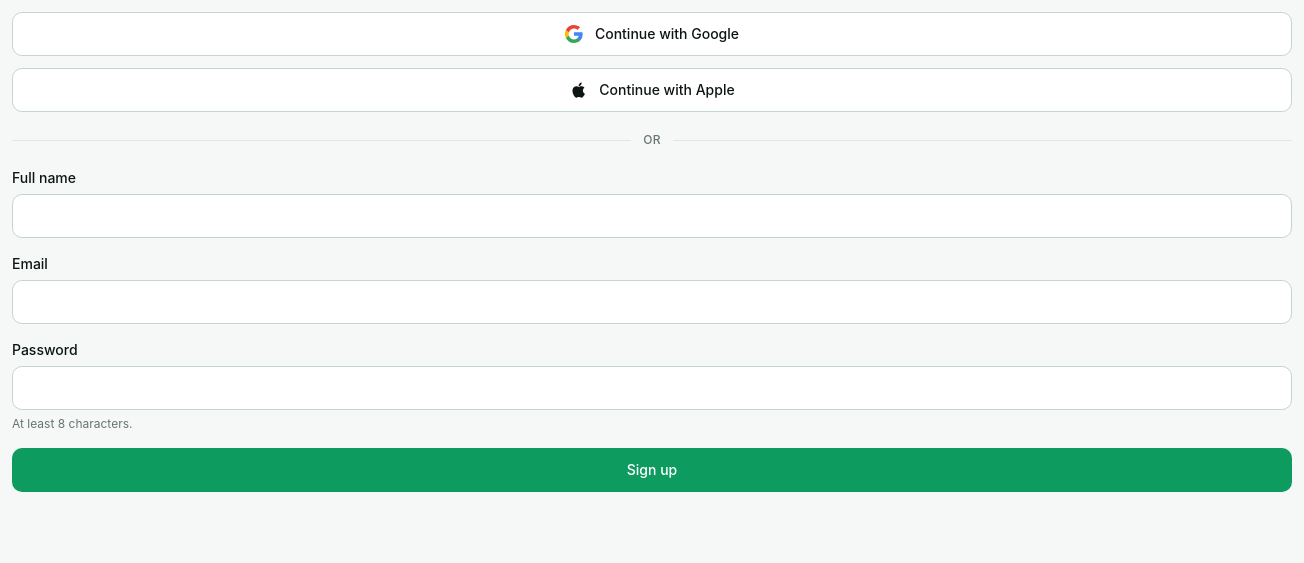
Test: SignupForm — already-registered handling › keeps an unrecognised provider message rather than inventing one
Step 1. Type "Karim Benali" into the field labelled "Full name" → (652, 216), box [12,194,1292,238]
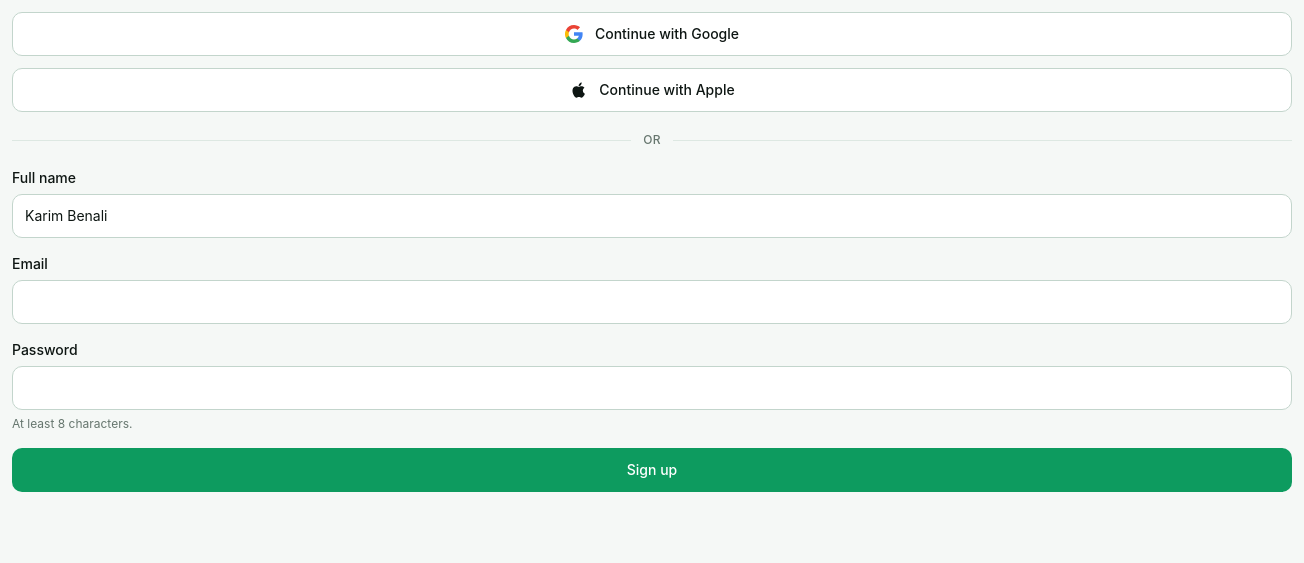
Step 2. Type "karim@fadecity.fr" into the field labelled "Email" → (652, 302), box [12,280,1292,324]
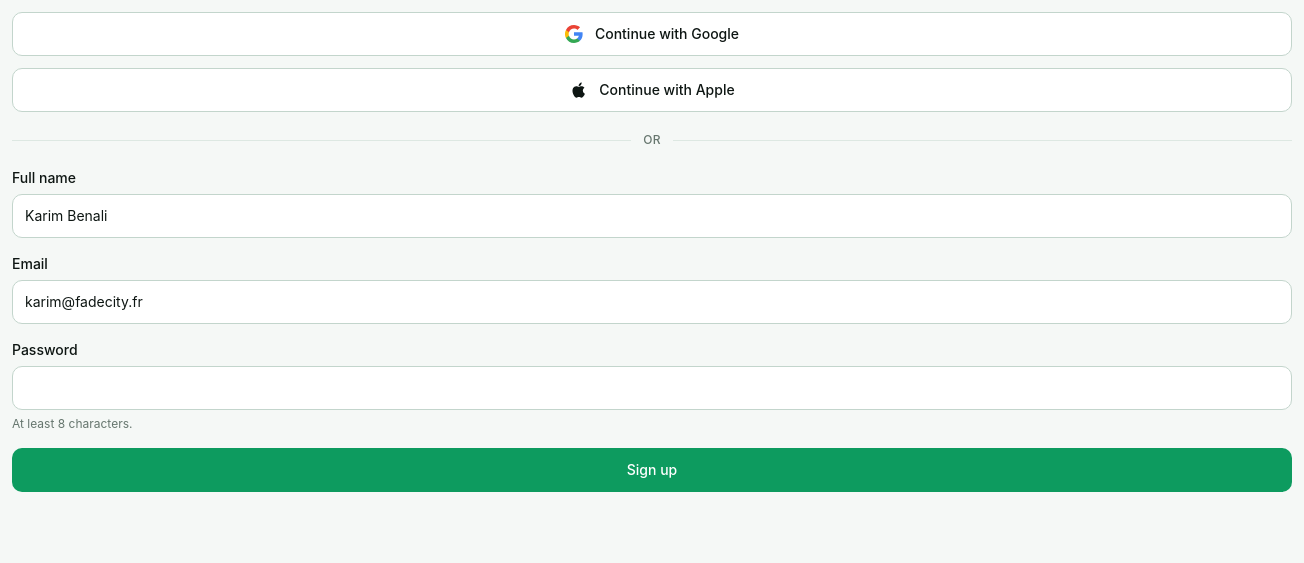
Step 3. Type "correct-horse-battery" into the password field labelled "Password" → (652, 388), box [12,366,1292,410]
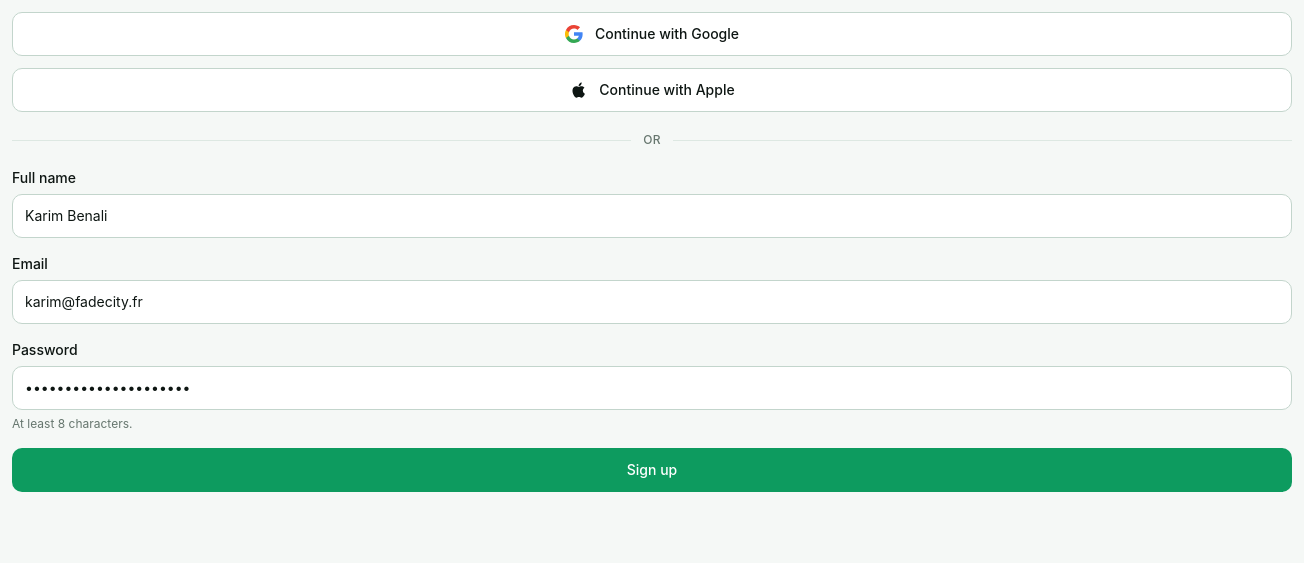
Step 4. Submit the form from the button "Sign up", box [12,448,1292,492]
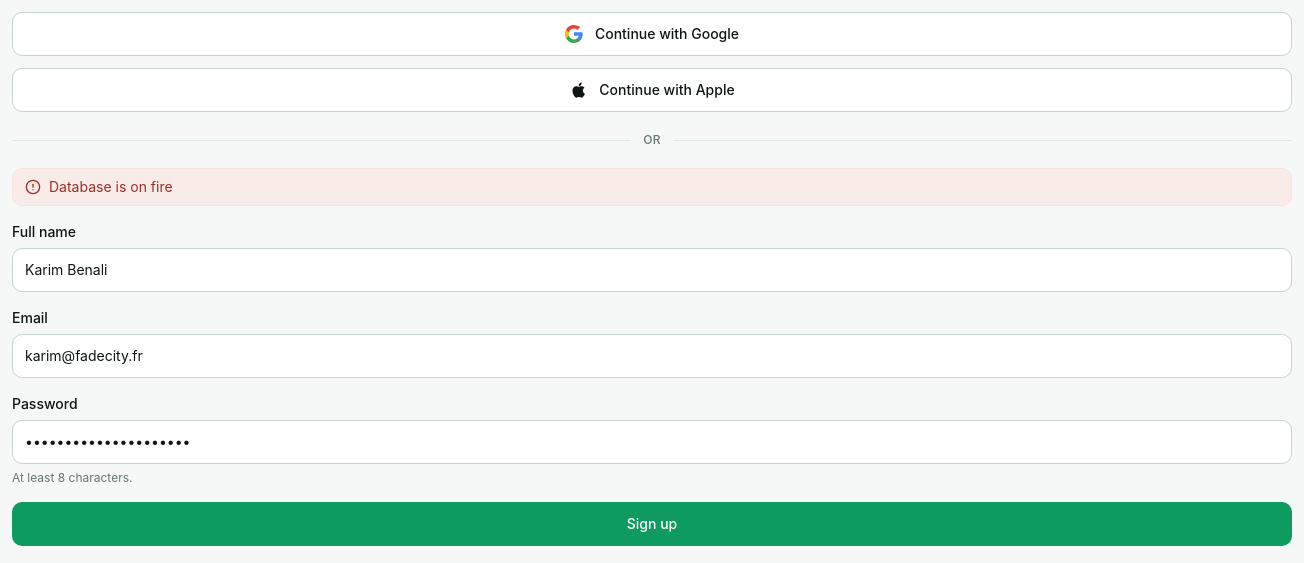
Expected: the text "Database is on fire" is shown, [49,177,173,197]
